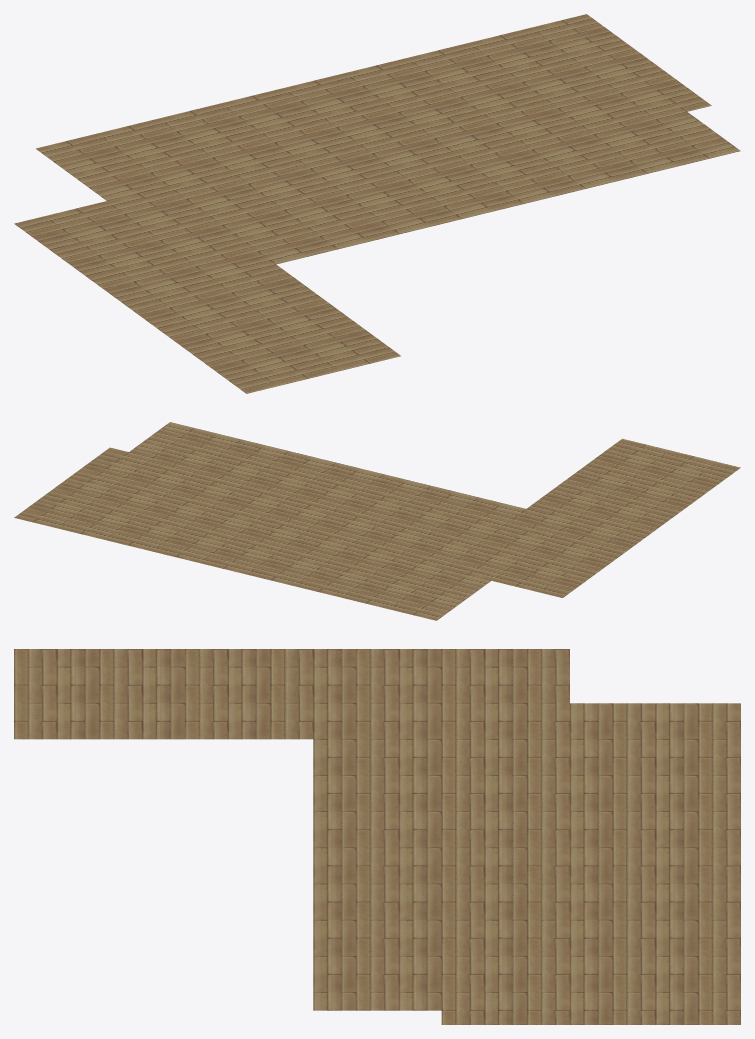
File: K1_floor.FBX
The picture shows the model from 3 angles, top to bottom: view 1: azimuth 30°, elevation 25°; view 2: azimuth 150°, elevation 25°; view 3: azimuth 270°, elevation 25°; orthographic projection. The views are drawn at different scales.
Visible parts, largest first — view 1: cs_db01; view 2: cs_db01; view 3: cs_db01.
Part boxes in pixels (left/top/right/bottom): cs_db01: left=14, top=14, right=740, bottom=393; cs_db01: left=14, top=422, right=740, bottom=620; cs_db01: left=14, top=649, right=740, bottom=1024.
Bounding box in the file's own units: 561 × 2.81e-14 × 459.
